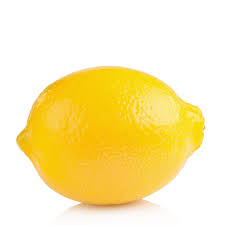lemon: (6, 56, 221, 209)
